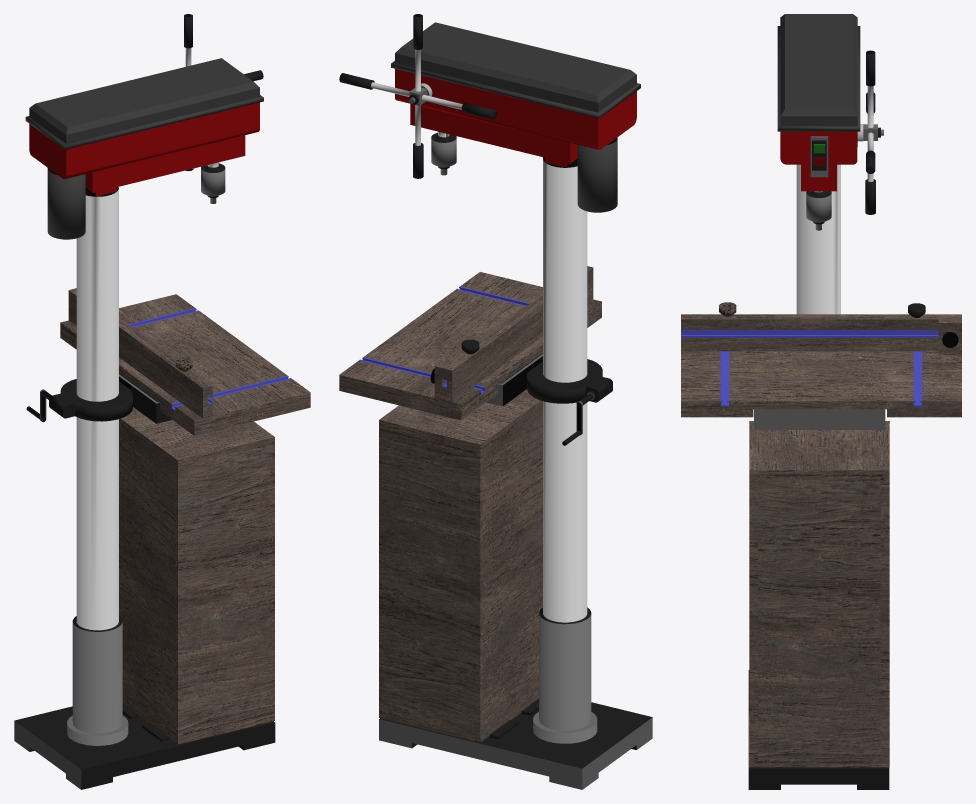
File: Drilling machine.fbx
3 renders of one model, left to right at view 1: azimuth 30°, elevation 25°; view 2: azimuth 150°, elevation 25°; view 3: azimuth 270°, elevation 25°, orthographic. The views are drawn at different scales.
Visible parts, largest first — view 1: Drilling machine; view 2: Drilling machine; view 3: Drilling machine.
Boxes of the visible parts, bbox=[...] form: Drilling machine: bbox=[14, 14, 310, 789]; Drilling machine: bbox=[339, 14, 652, 789]; Drilling machine: bbox=[681, 14, 961, 789].
Size of the model in its own units: 63.06 by 173 by 60.96.
